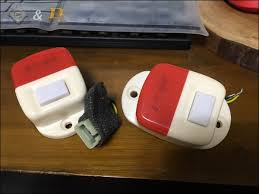bell: (121, 62, 229, 147)
